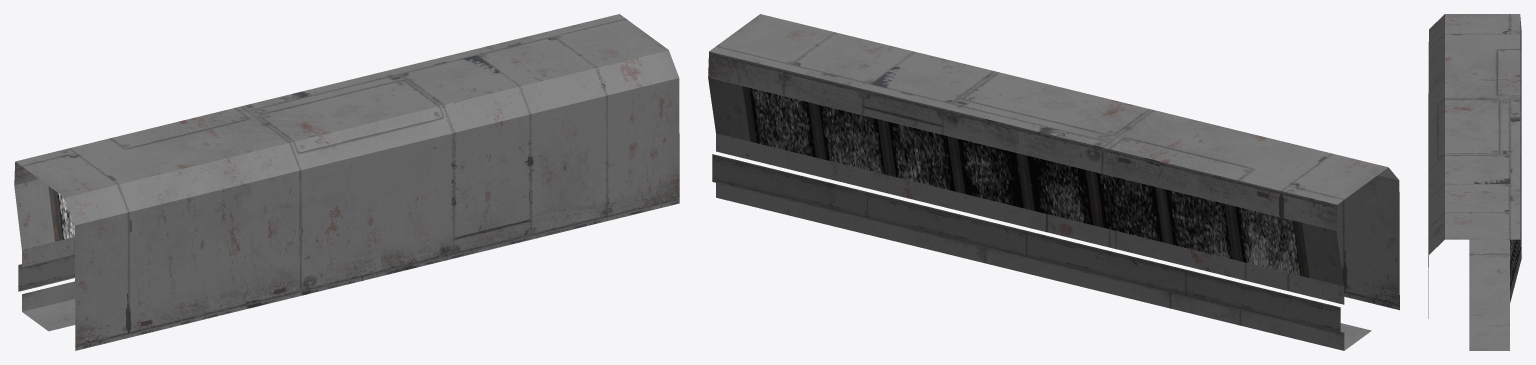
File: ARC0910223.fbx
3 renders of one model, left to right at view 1: azimuth 30°, elevation 25°; view 2: azimuth 150°, elevation 25°; view 3: azimuth 270°, elevation 25°, orthographic. The views are drawn at different scales.
Visible parts, largest first — view 1: smARC0910223; view 2: smARC0910223; view 3: smARC0910223.
Part boxes in pixels (x1,y1,x2,y2): smARC0910223: [14, 14, 679, 350]; smARC0910223: [708, 14, 1399, 350]; smARC0910223: [1428, 14, 1521, 350].
Bounding box in the file's own units: 400 × 92.03 × 69.98.
1 material, 1 textured.
